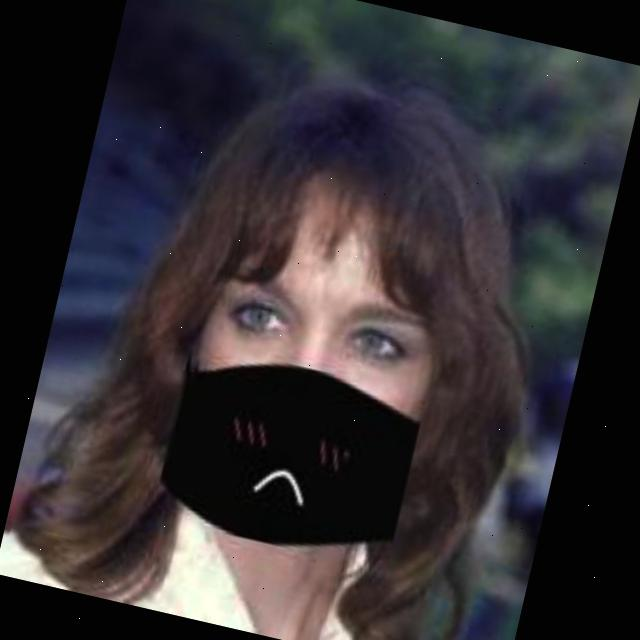suspicion: (110, 74, 544, 572)
